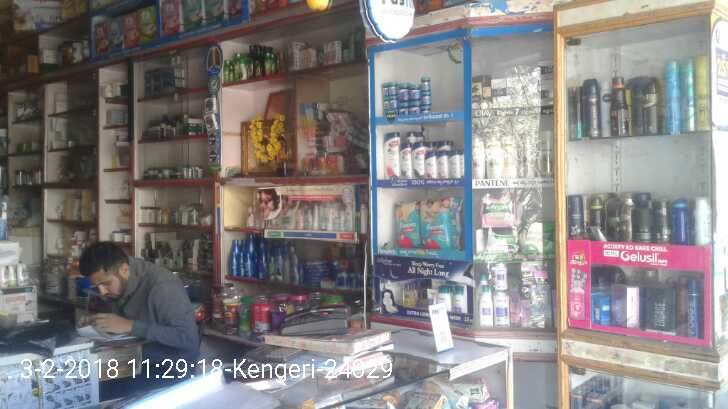beauty: (422, 147, 465, 180), (483, 134, 508, 181), (382, 129, 400, 184), (471, 126, 487, 186), (398, 147, 424, 177)
pharmacy: (378, 75, 438, 117), (416, 198, 461, 251), (479, 187, 517, 230), (392, 201, 418, 250)
